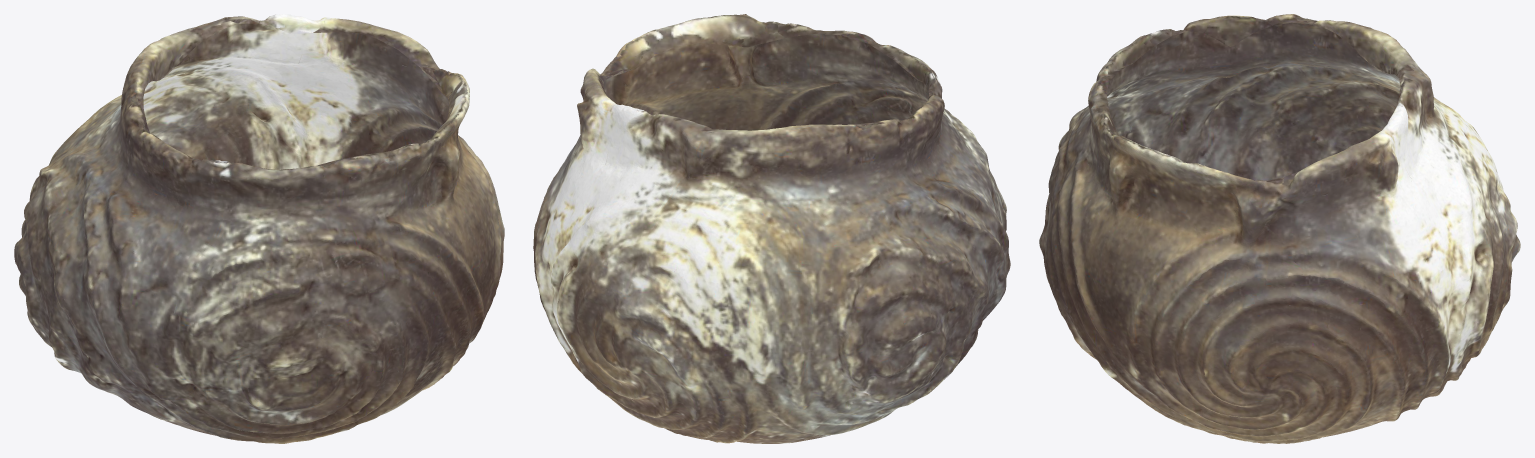
File: Ark_HM_299_HI.glb
3 renders of one model, left to right at view 1: azimuth 30°, elevation 25°; view 2: azimuth 150°, elevation 25°; view 3: azimuth 270°, elevation 25°, orthographic. The views are drawn at different scales.
Size of the model in its own units: 0.4982 by 0.3908 by 0.4967.
1 material, 1 textured.
